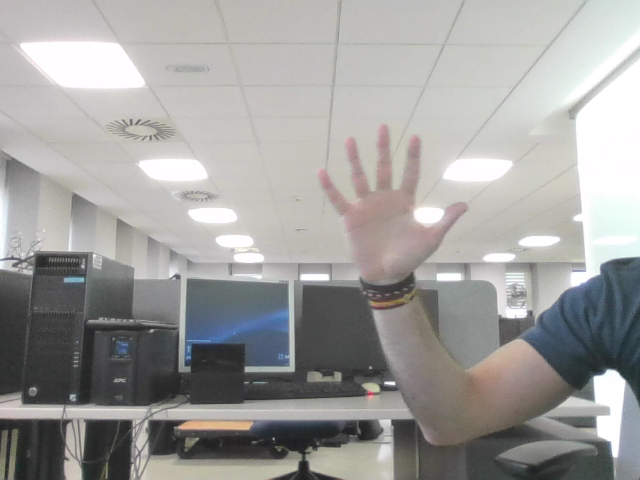Mano Abierta: (328, 137, 453, 254)
